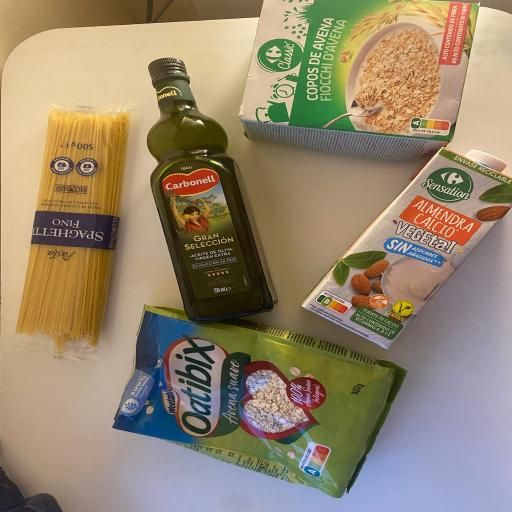almond_milk: (300, 145, 512, 353)
oats: (111, 304, 403, 500), (239, 0, 482, 151)
olive_oil: (144, 55, 281, 326)
spaghetti: (14, 106, 136, 352)
